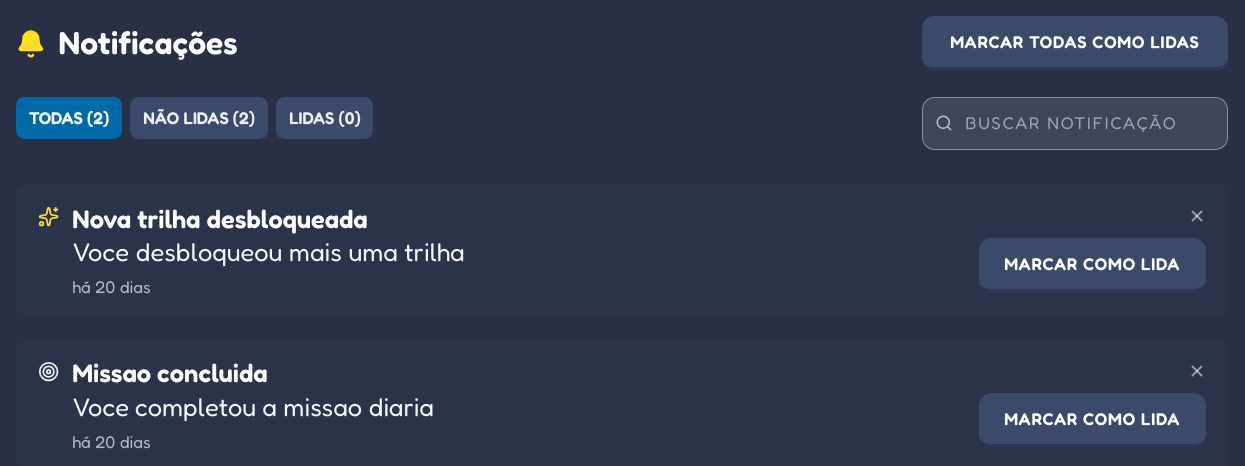
Test: NotificationsPage › deve marcar todas como lidas
Expected: the heading "Nova trilha desbloqueada" is shown, [72,202,368,234]
What coordinates should you click on to do the following:
click the button "Marcar todas como lidas"
I would click on:
 (1075, 44)
Its box is [922,16,1228,71].
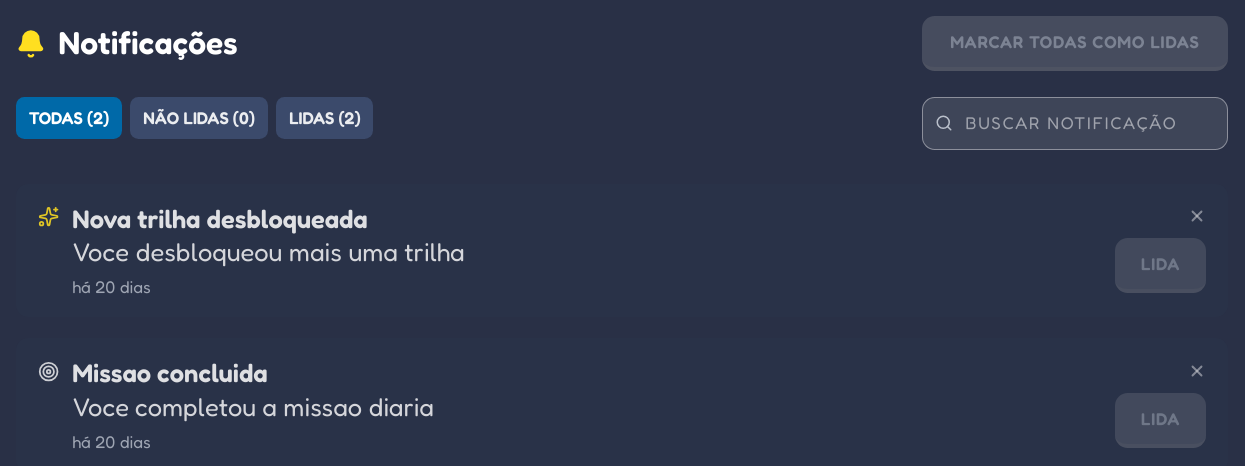
Expected: the number of buttons "Lida" is 2, [1115,238,1206,293]; [1115,393,1206,448]
Now the button "NÃO LIDAS (0)" is shown, box [130,96,268,139]
Now the button "LIDAS (2)" is shown, box [276,96,373,139]
